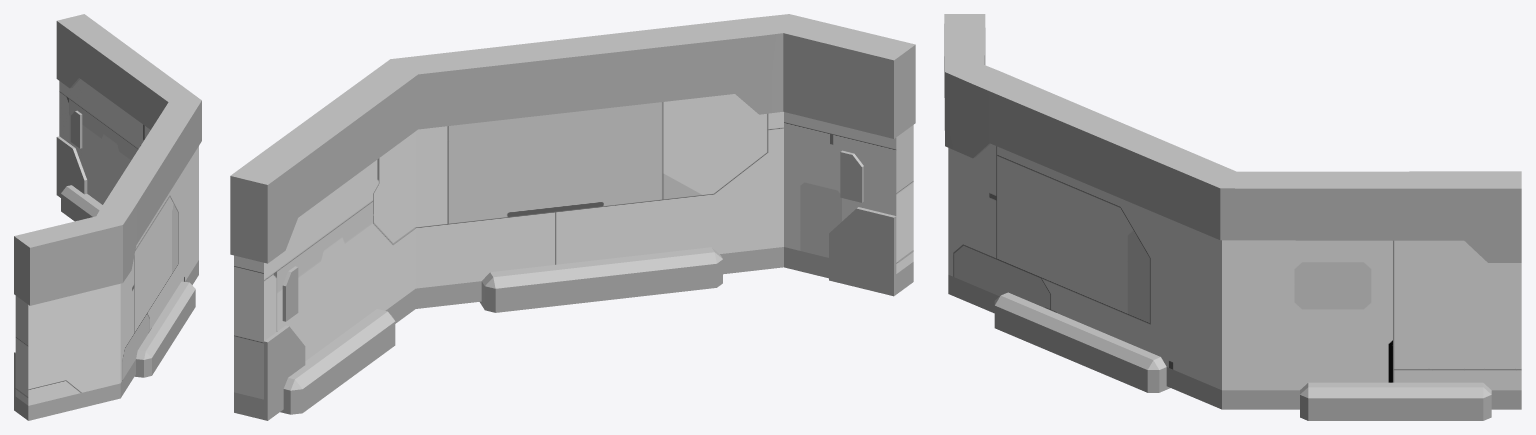
File: SM_Wall_7x3_Corner_1.fbx
The picture shows the model from 3 angles, left to right: view 1: azimuth 30°, elevation 25°; view 2: azimuth 150°, elevation 25°; view 3: azimuth 270°, elevation 25°; orthographic projection. The views are drawn at different scales.
Visible parts, largest first — view 1: SM_Wall_7x3_Corner_1; view 2: SM_Wall_7x3_Corner_1; view 3: SM_Wall_7x3_Corner_1.
Part boxes in pixels (x1,y1,x2,y2): SM_Wall_7x3_Corner_1: (14, 14, 201, 420); SM_Wall_7x3_Corner_1: (230, 14, 915, 420); SM_Wall_7x3_Corner_1: (944, 14, 1521, 420).
Size of the model in its own units: 523 by 305 by 705.
